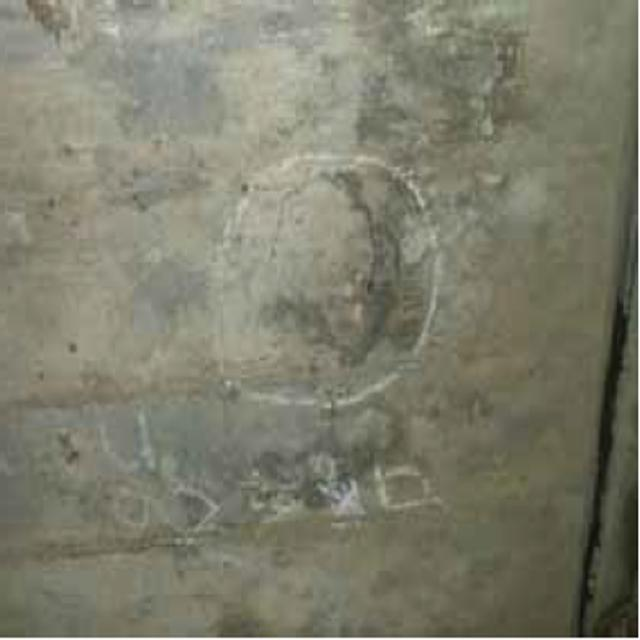spalling: (243, 174, 423, 396)
